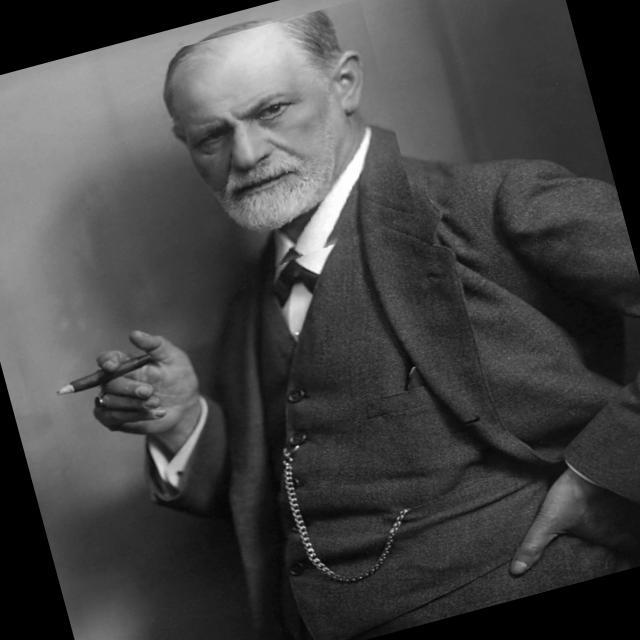cigarette: (27, 331, 184, 404)
